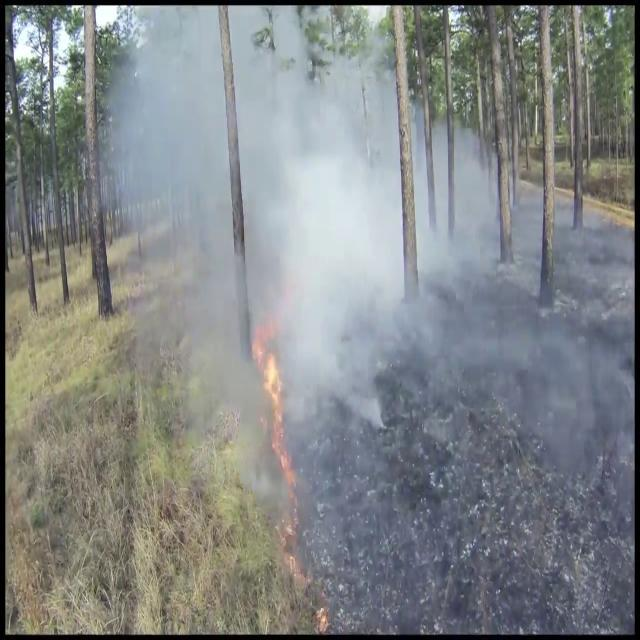Fire: (251, 319, 292, 465)
Smoke: (110, 6, 434, 521), (87, 0, 506, 364)
